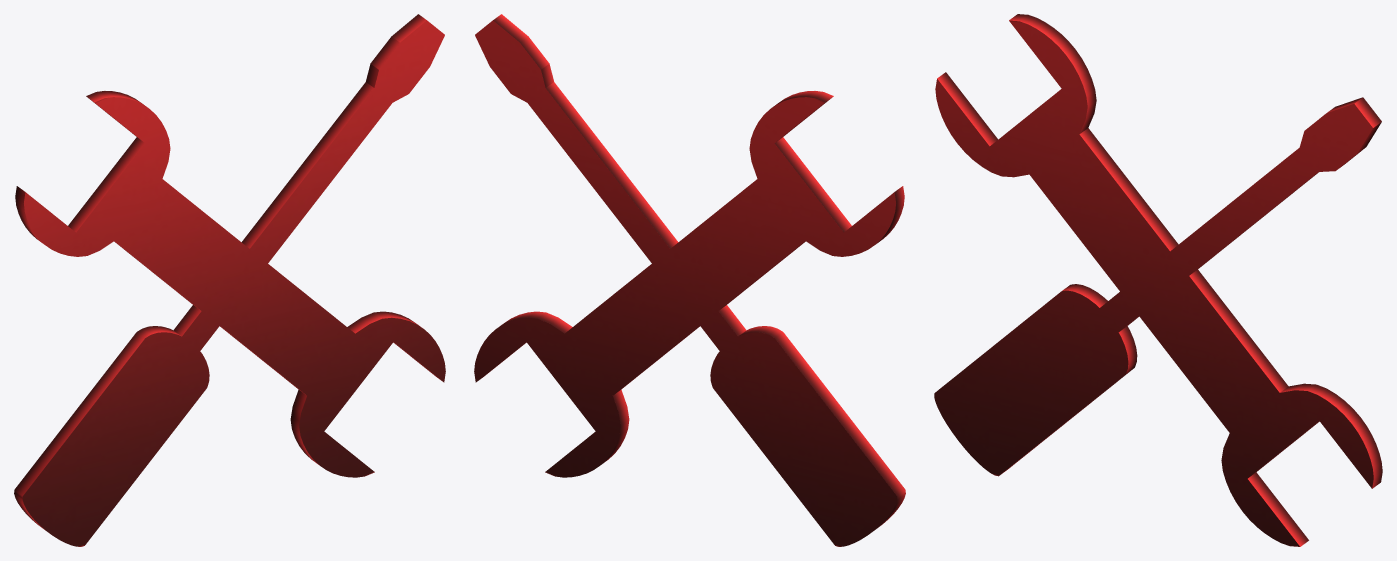
File: xuanfubiaoqian.FBX
3 renders of one model, left to right at view 1: azimuth 30°, elevation 25°; view 2: azimuth 150°, elevation 25°; view 3: azimuth 330°, elevation 25°, orthographic. The views are drawn at different scales.
Visible parts, largest first — view 1: Box001; view 2: Box001; view 3: Box001.
Boxes of the visible parts, left/top/right/bottom form: Box001: left=14, top=14, right=445, bottom=546; Box001: left=474, top=14, right=905, bottom=546; Box001: left=934, top=14, right=1382, bottom=546.
Size of the model in its own units: 28.43 by 28.44 by 1.
